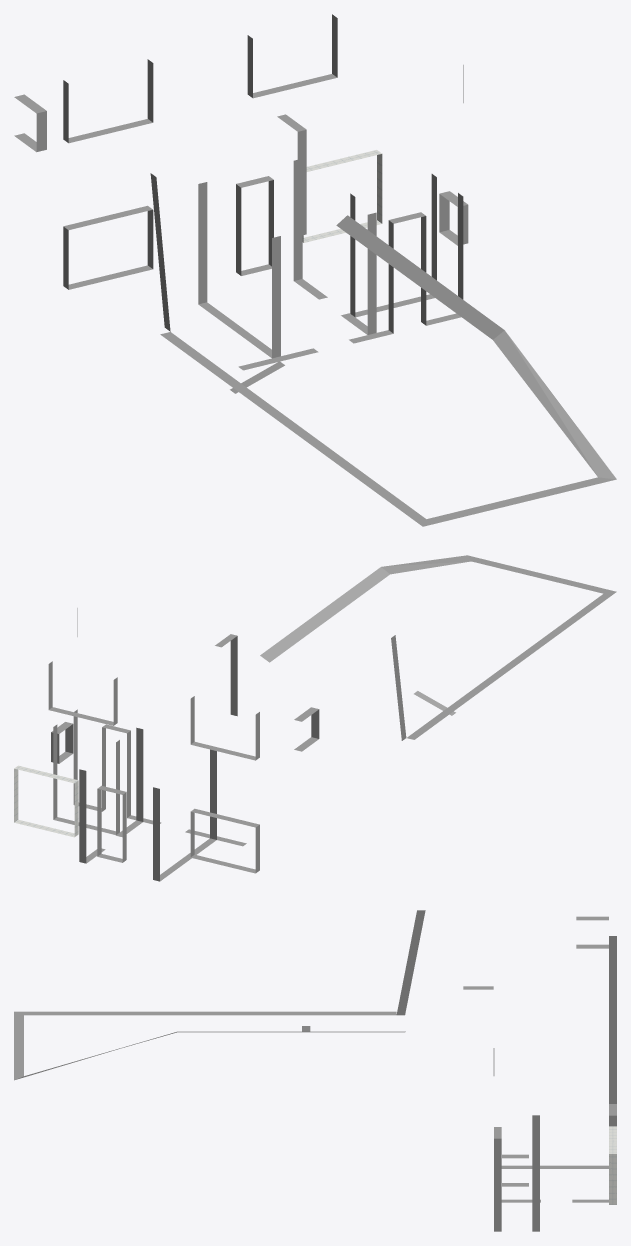
Rendered from window side.fbx.
The picture shows the model from 3 angles, top to bottom: view 1: azimuth 30°, elevation 25°; view 2: azimuth 150°, elevation 25°; view 3: azimuth 270°, elevation 25°; orthographic projection. The views are drawn at different scales.
Parts seen in each view (by area): view 1: Group_569, Object606552; view 2: Group_569, Object606552; view 3: Group_569, Object606552.
Part boxes in pixels (<box>): Group_569: <box>14,14,616,526</box>; Object606552: <box>302,150,382,242</box>; Group_569: <box>48,555,616,881</box>; Object606552: <box>14,765,78,837</box>; Group_569: <box>14,910,616,1231</box>; Object606552: <box>609,1126,616,1204</box>.
Bounding box in the file's own units: 7610 × 5085 × 14345.
Materials: 2 (1 with a texture image).
